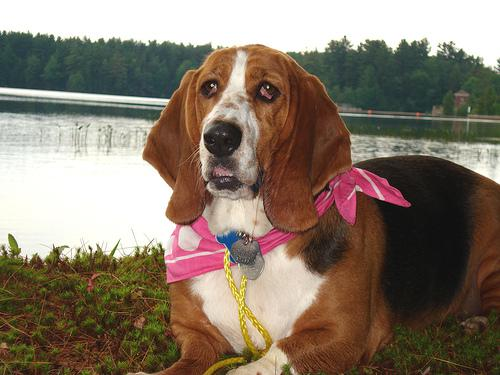dog-basset_hound: (141, 46, 350, 230)
